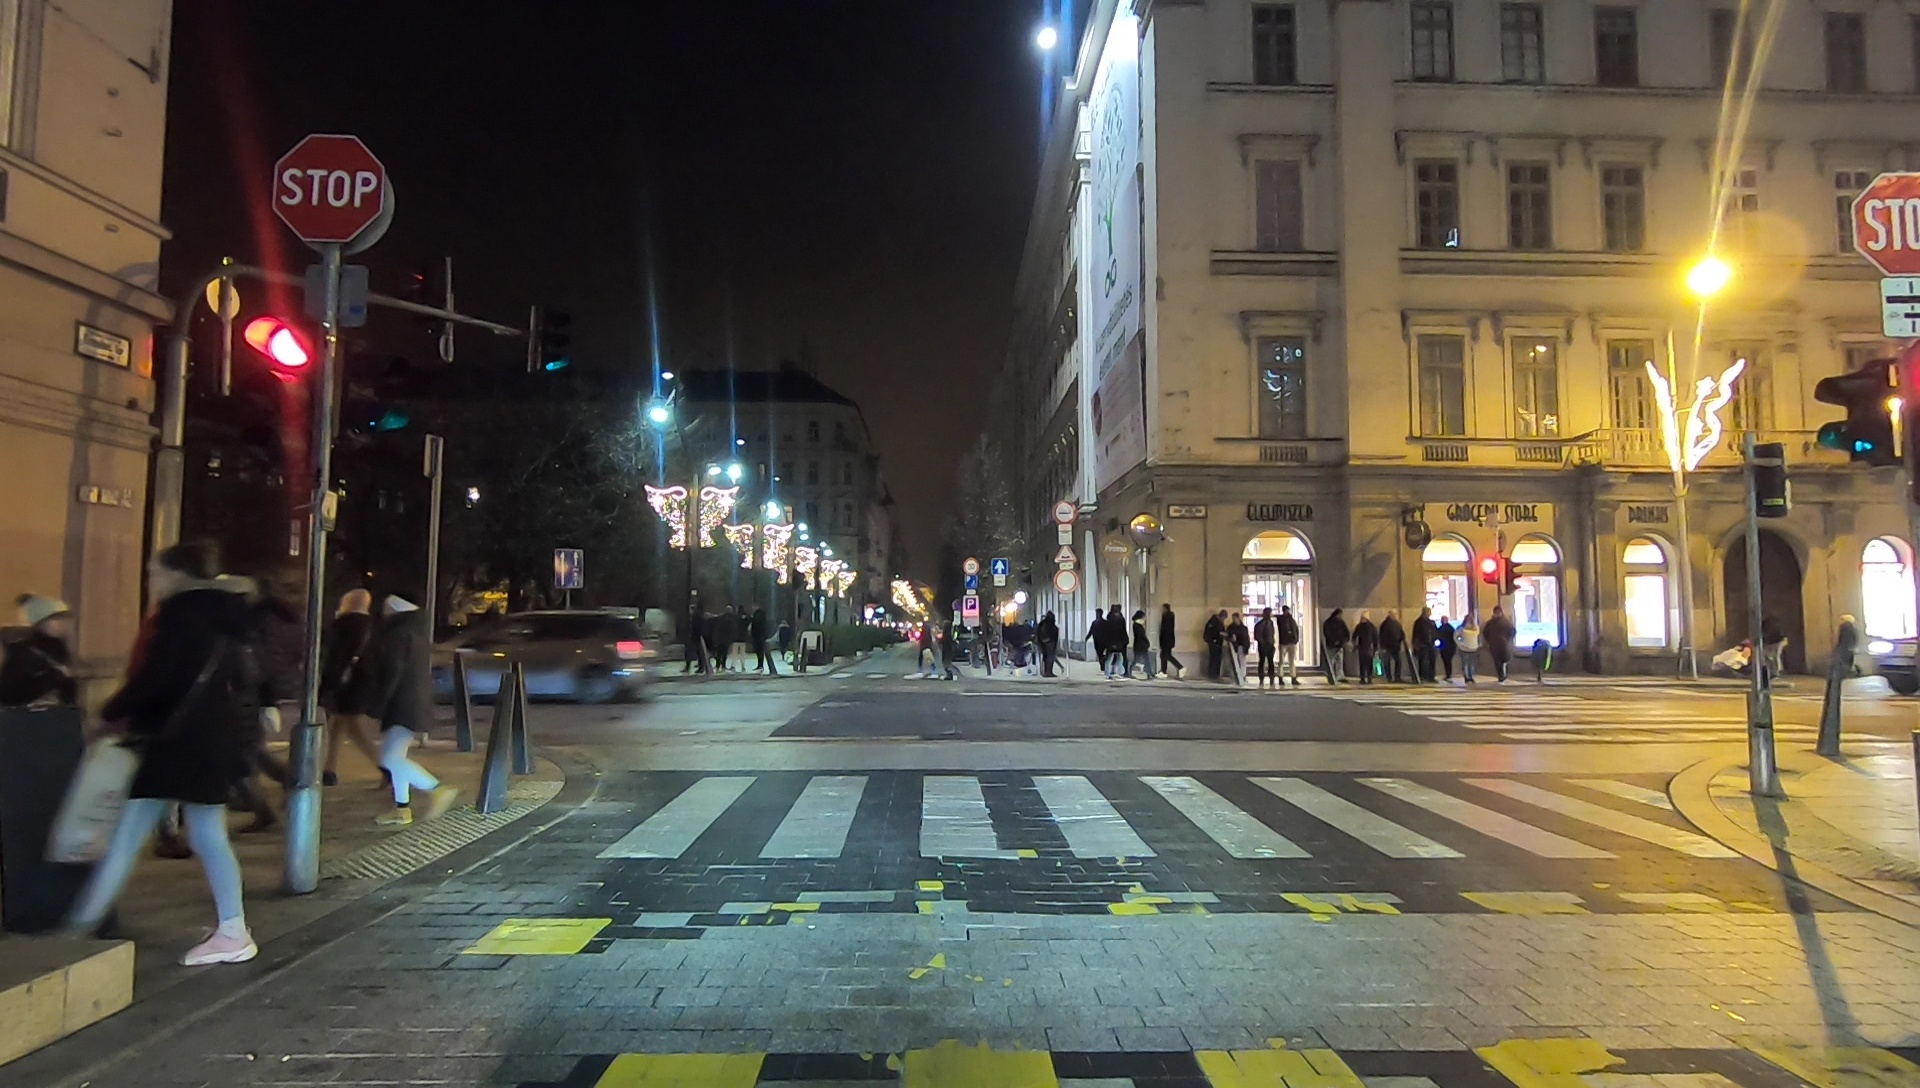person: (114, 550, 254, 978), (2, 591, 99, 895), (375, 593, 462, 823), (325, 586, 388, 797), (1414, 608, 1441, 686), (1156, 604, 1182, 674), (1486, 610, 1512, 676), (1323, 611, 1347, 682), (1354, 615, 1378, 680), (1278, 610, 1299, 682), (1460, 610, 1482, 676), (1386, 615, 1408, 680), (1228, 613, 1251, 674), (1036, 613, 1060, 674), (1256, 611, 1276, 678), (1084, 611, 1108, 667), (1130, 611, 1151, 673), (1441, 621, 1460, 678), (754, 615, 771, 671), (1206, 613, 1223, 674), (1112, 610, 1128, 671), (712, 608, 728, 669)
